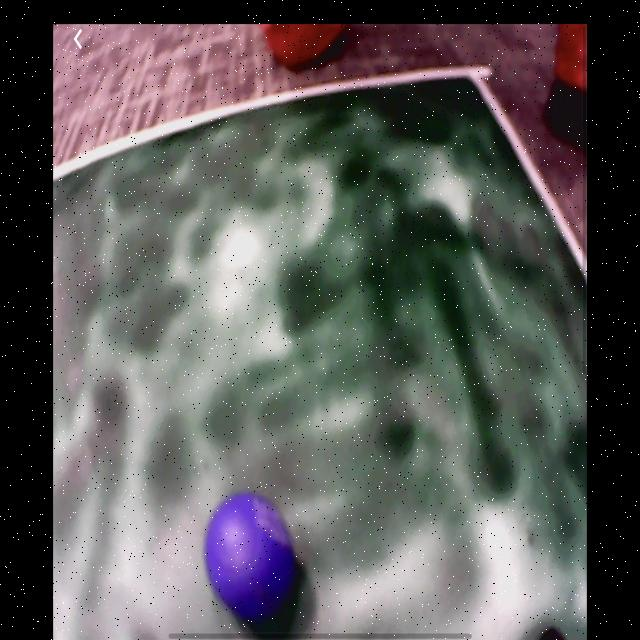ball: (205, 492, 298, 614)
